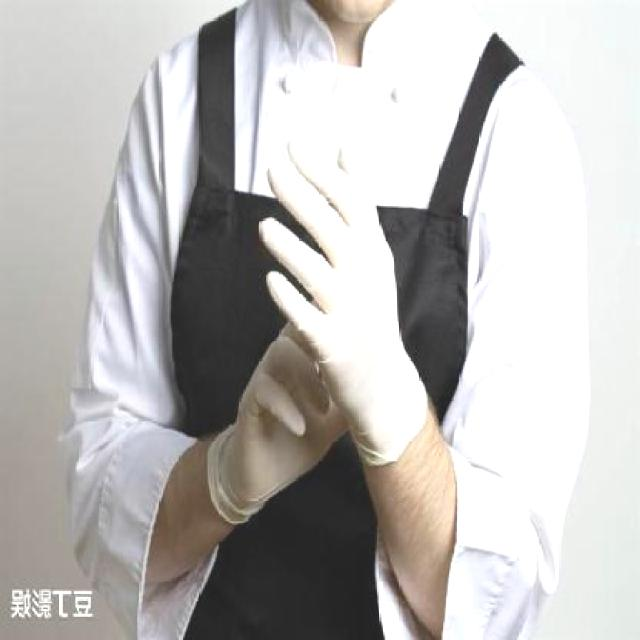hand_glove: (256, 137, 421, 435), (225, 292, 352, 512)
